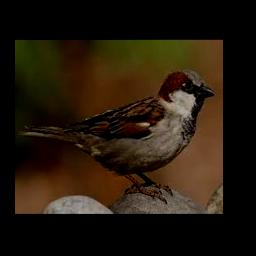Sparrow: (18, 69, 214, 203)
